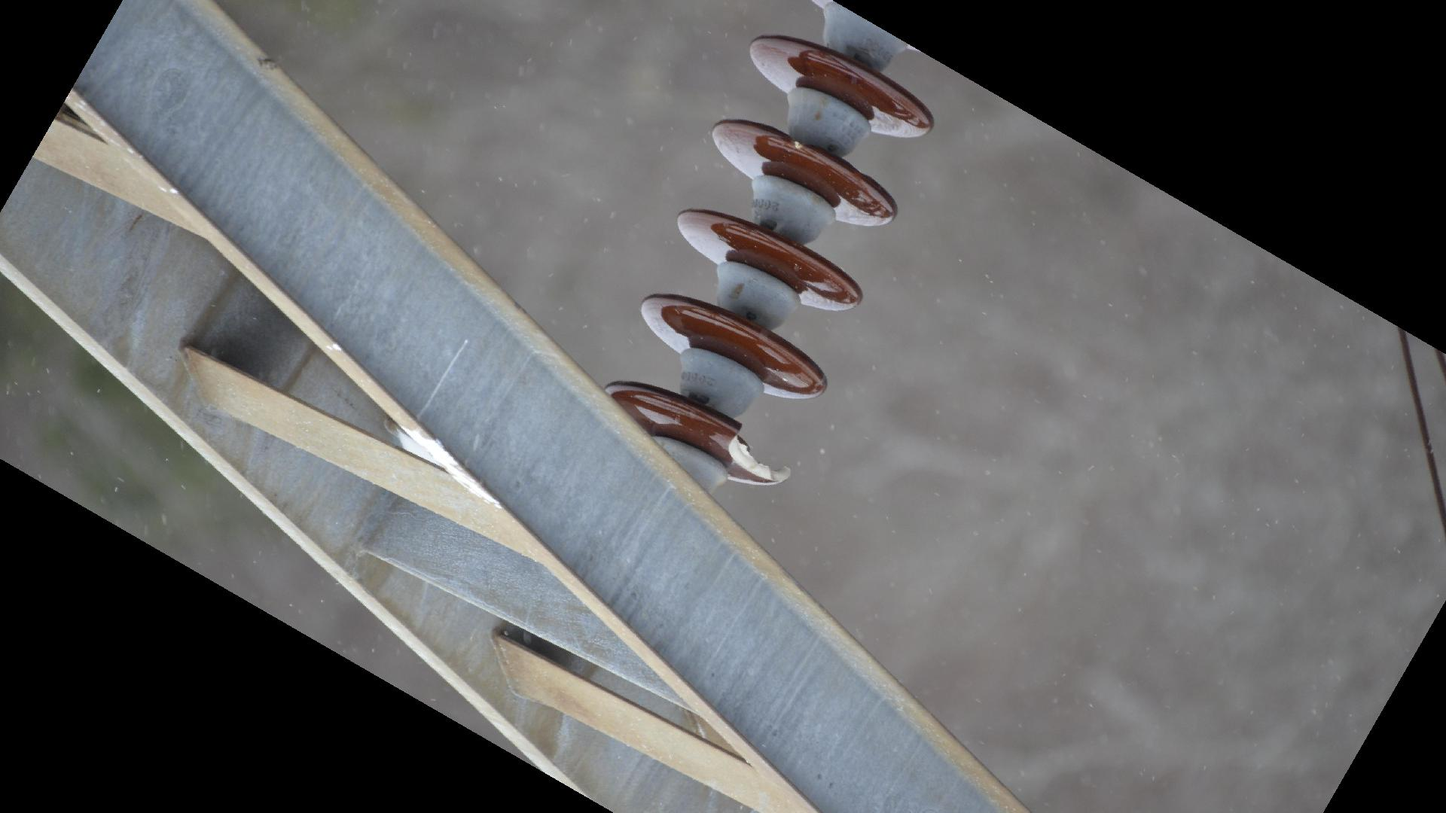insulator: (599, 29, 943, 493)
insulator_breakage: (716, 412, 798, 494)
